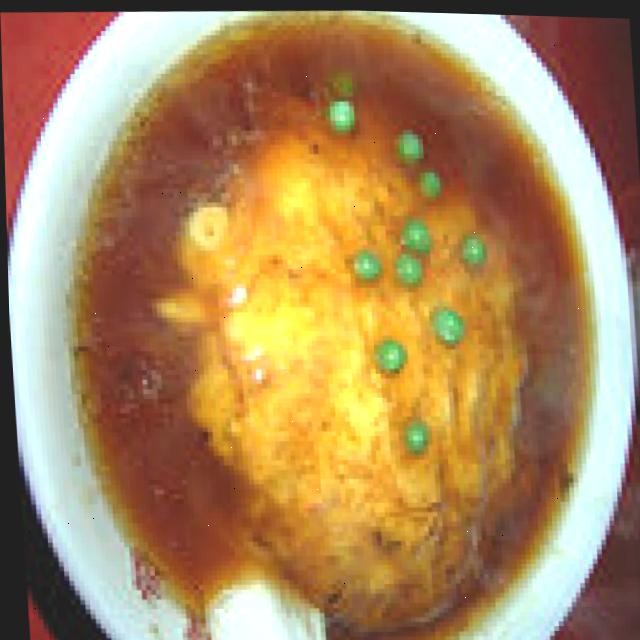面条主食: (46, 1, 603, 640)
